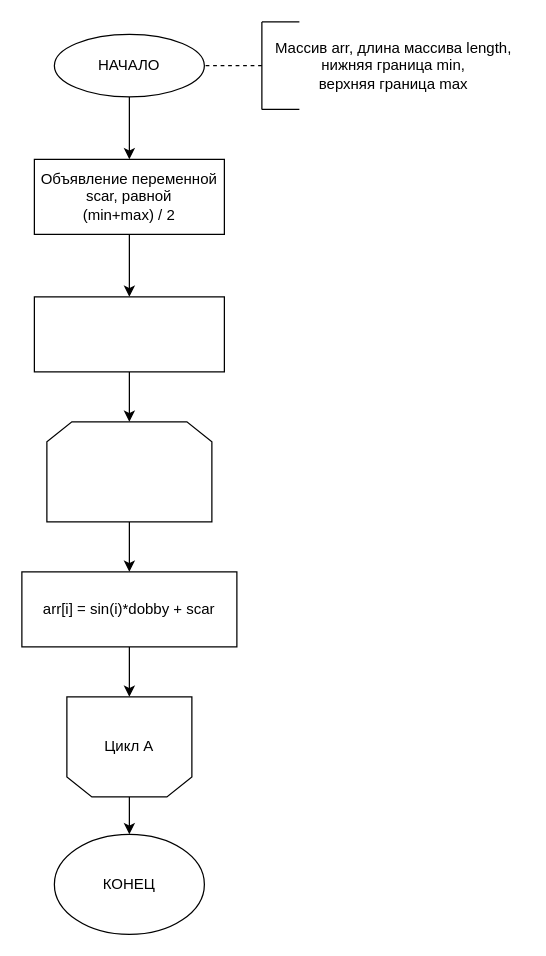
Some shapes in this 546 by 956 pixel diagram are drawn without their labels. Each missing label, with the box of its shape:
Объявление переменной dobby, равной max - (min+max) / 2: (33, 296, 224, 372)
Цикл А по i от 0 до length: (46, 421, 212, 522)
